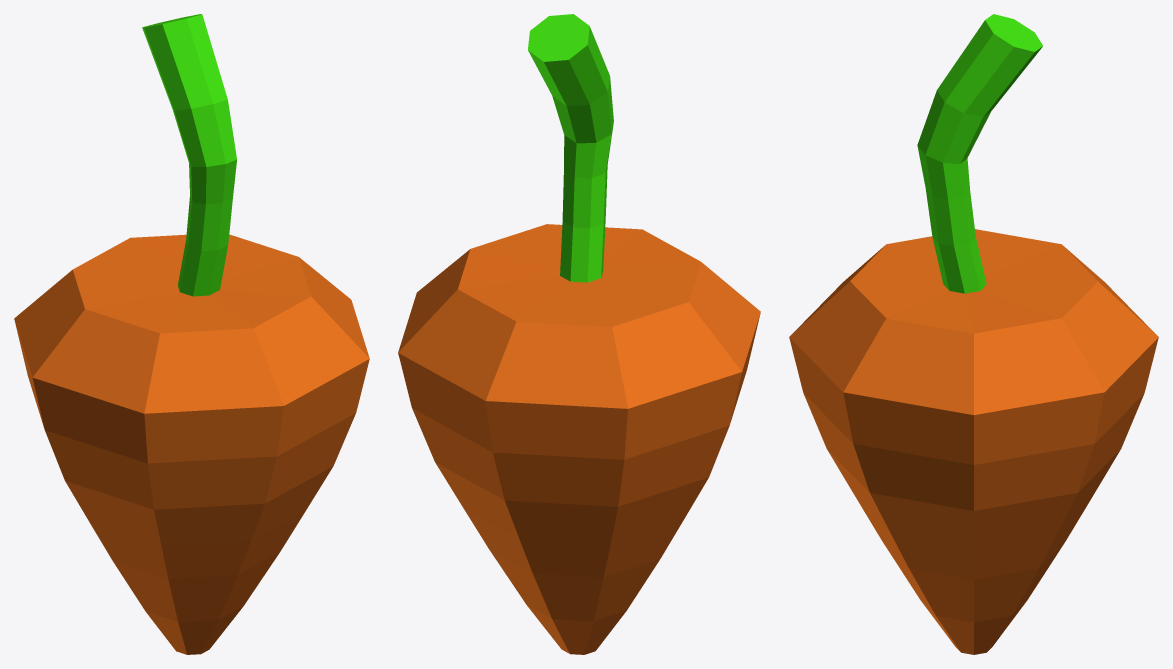
File: Carrot.fbx
3 views of the same model, side by side, from view 1: azimuth 30°, elevation 25°; view 2: azimuth 150°, elevation 25°; view 3: azimuth 270°, elevation 25° (orthographic). The views are drawn at different scales.
Visible parts, largest first — view 1: Cylinder; view 2: Cylinder; view 3: Cylinder.
Part boxes in pixels (bbox=[...]): Cylinder: bbox=[14, 14, 369, 654]; Cylinder: bbox=[398, 14, 760, 654]; Cylinder: bbox=[789, 14, 1158, 654].
Bounding box in the file's own units: 200 × 375 × 200.
